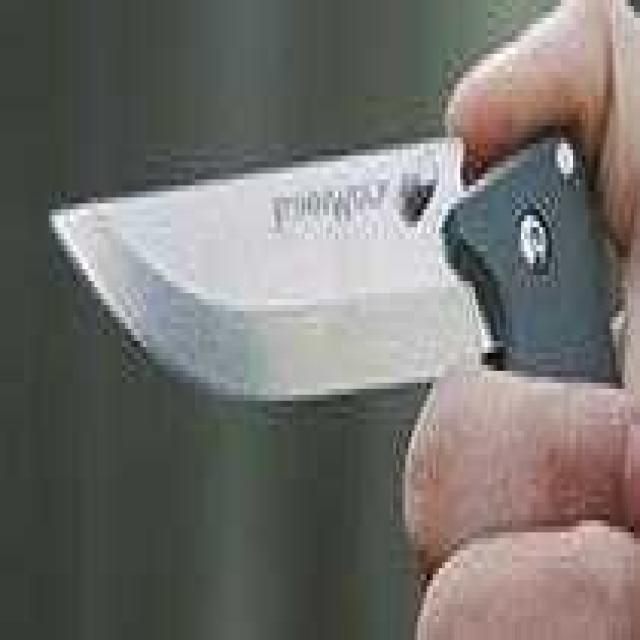Knife: (42, 128, 640, 458)
